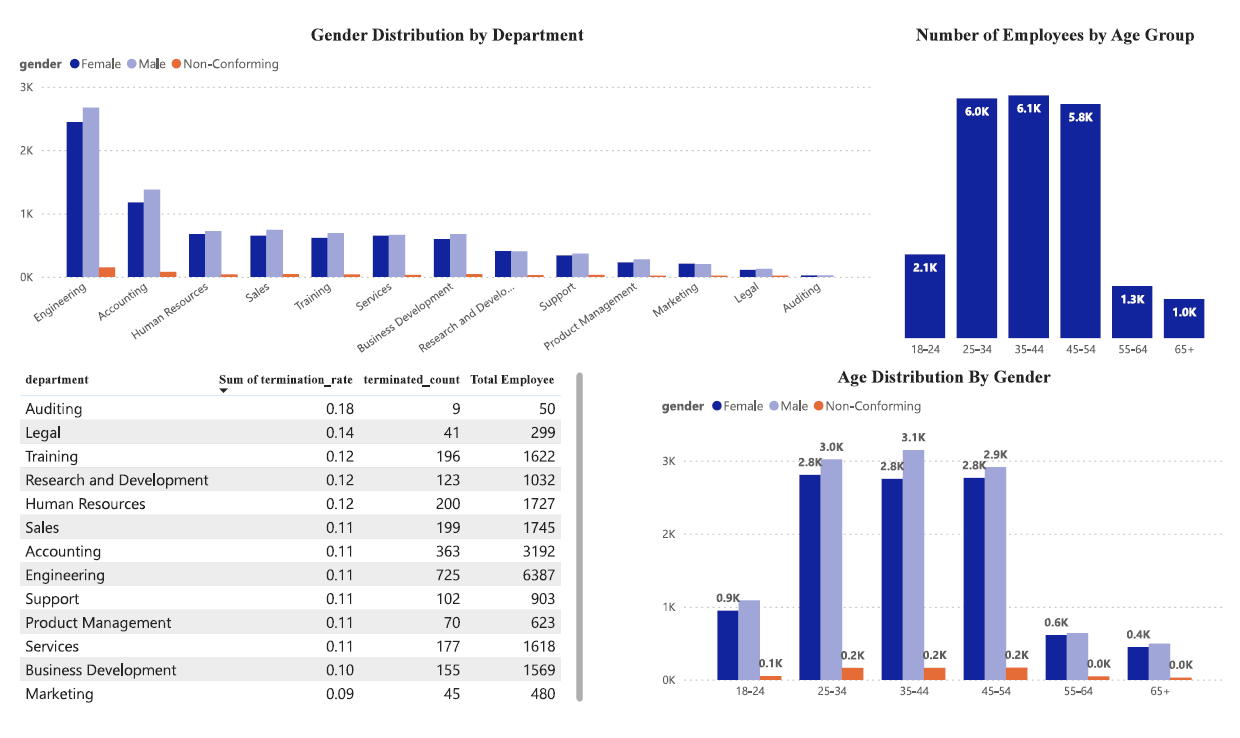

The page's visual inventory and layout, read from the dashboard file:
{"tool":"powerbi","page":{"name":"Page 2","canvas":[1280,720],"ordinal":1},"visuals":[{"type":"columnChart","title":"Number of Employees by Age Group","fields":{"Category":["Question 2 - Age Group.age_group"],"Y":["Sum(Question 2 - Age Group.count)"]},"box":[910.1,0,370.4,359.8],"z":0},{"type":"clusteredColumnChart","title":"Age Distribution By Gender","fields":{"Y":["Sum(Question 2 - Age Group_Gender.count)"],"Category":["Question 2 - Age Group_Gender.age_group"],"Series":["Question 2 - Age Group_Gender.gender"]},"box":[675.7,359.8,604.7,359.8],"z":1000},{"type":"tableEx","fields":{"Values":["Question 8 - Turnover--Termination rate.department","Sum(Question 8 - Turnover--Termination rate.termination_rate)","Question 8 - Turnover--Termination rate.terminated_count","Question 8 - Turnover--Termination rate.Total Employee"]},"box":[0,359.8,603.6,359.8],"z":2000},{"type":"clusteredColumnChart","title":"Gender Distribution by Department","fields":{"Category":["Question 6 - Gender Distribution across different departmnets.department"],"Series":["Question 6 - Gender Distribution across different departmnets.gender"],"Y":["Sum(Question 6 - Gender Distribution across different departmnets.count)"]},"box":[0,0,910.1,359.8],"z":3000}]}

Visuals, with their boxes on the page's 1280x720 design canvas (x1, y1, x2, y2). These are canvas units, not pixel positions in the 1240x738 screenshot, which may show the page scaled, cropped or inside an application window:
"Number of Employees by Age Group" columnChart: {"x1": 910, "y1": 0, "x2": 1280, "y2": 360}
"Age Distribution By Gender" clusteredColumnChart: {"x1": 676, "y1": 360, "x2": 1280, "y2": 720}
tableEx - Question 8 - Turnover--Termination rate.department x Sum(Question 8 - Turnover--Termination rate.termination_rate): {"x1": 0, "y1": 360, "x2": 604, "y2": 720}
"Gender Distribution by Department" clusteredColumnChart: {"x1": 0, "y1": 0, "x2": 910, "y2": 360}
